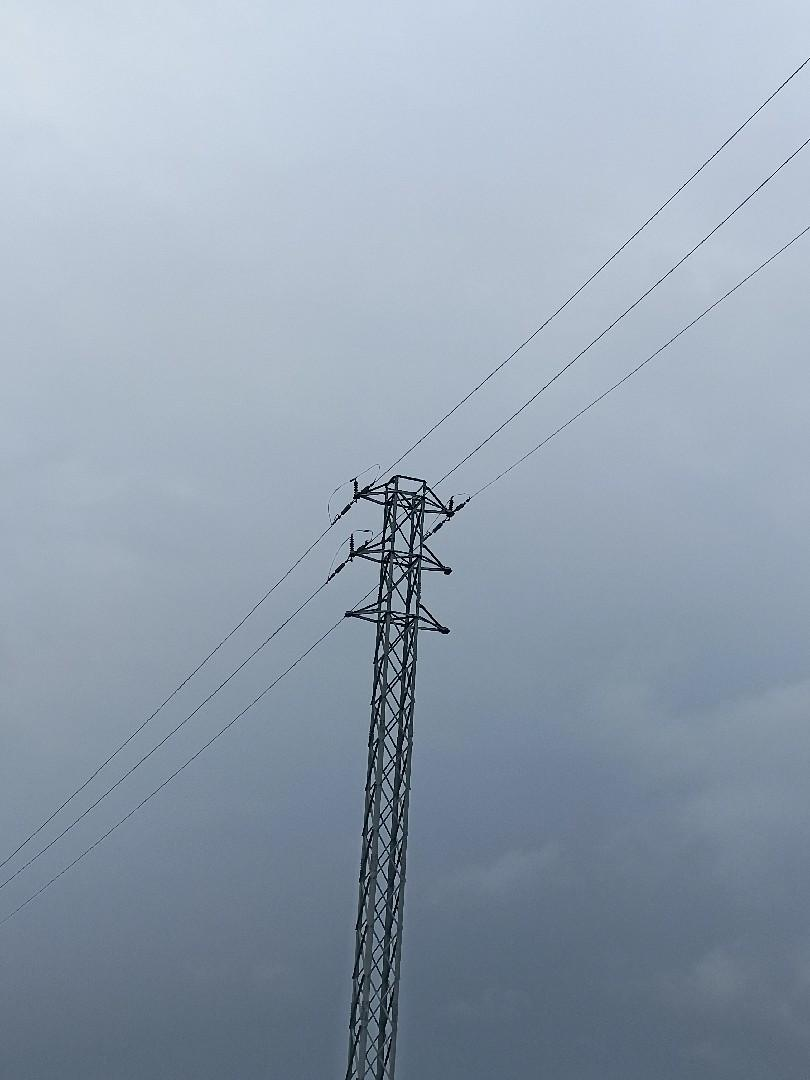Microwave Antenna: (337, 472, 460, 1072)
